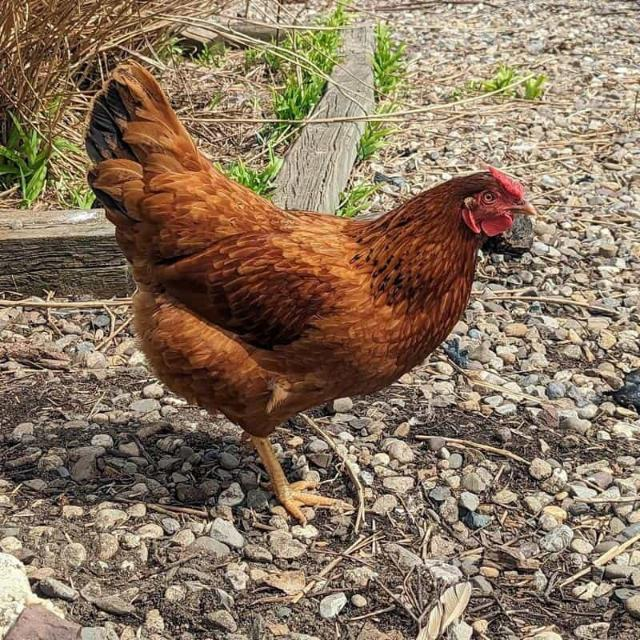Chicken: (87, 57, 538, 527)
